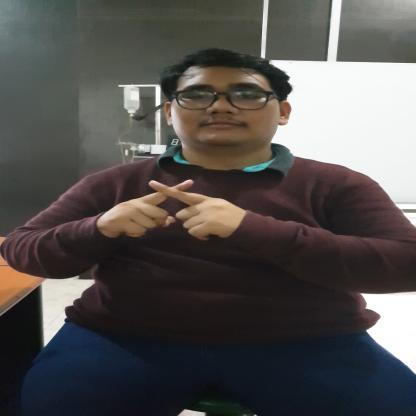X: (110, 178, 240, 240)
